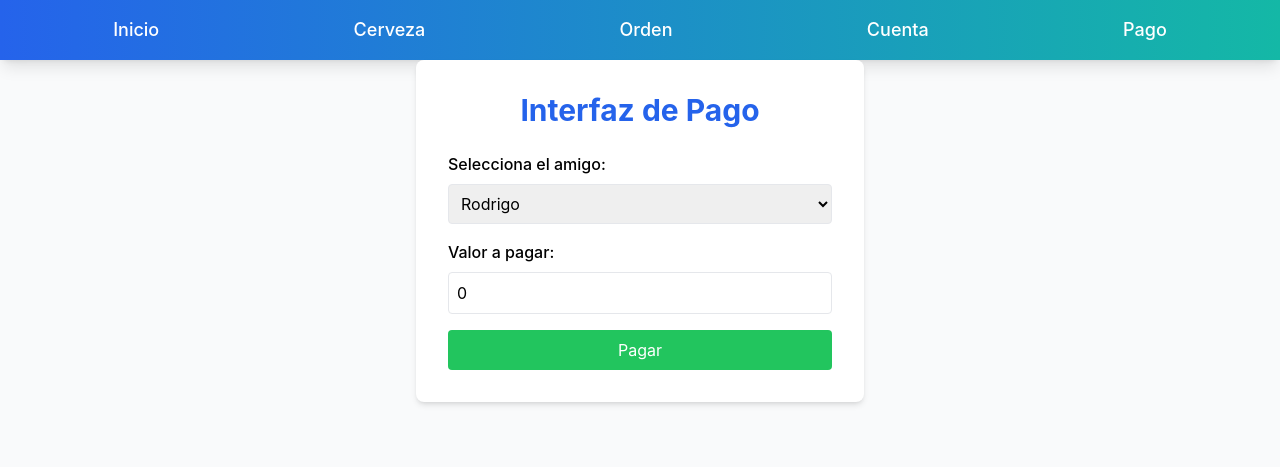
Test: Payment Page › renders payment form and submits payment successfully
Expected: the heading "Interfaz de Pago" is shown, [520, 92, 760, 128]
Select "Ailen" in the dropdown labelled "Selecciona el amigo:" at (640, 204), box [448, 184, 832, 224]
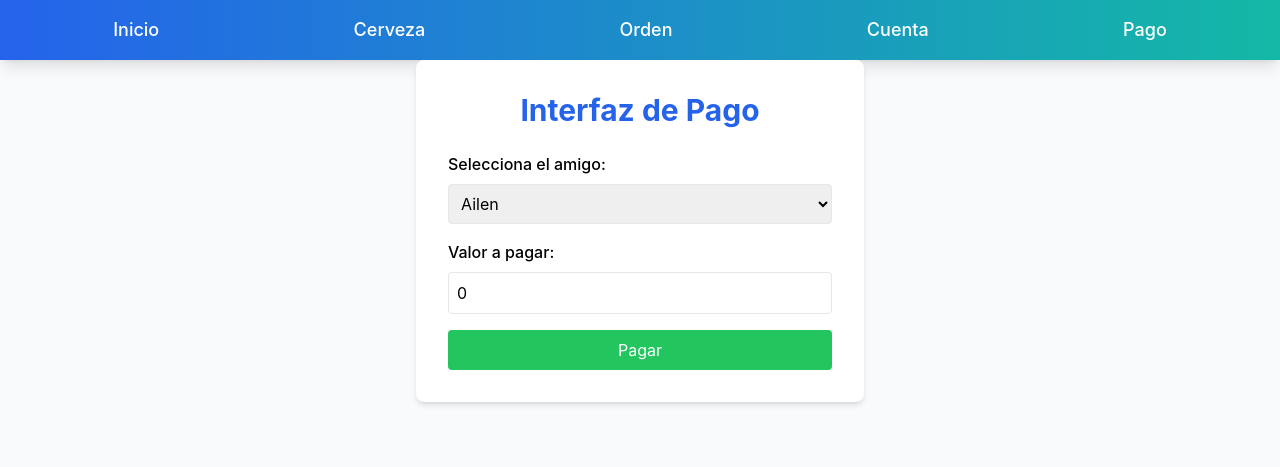
Replace the text in the number field labelled "Valor a pagar:" with "115" at (640, 293), box [448, 272, 832, 314]
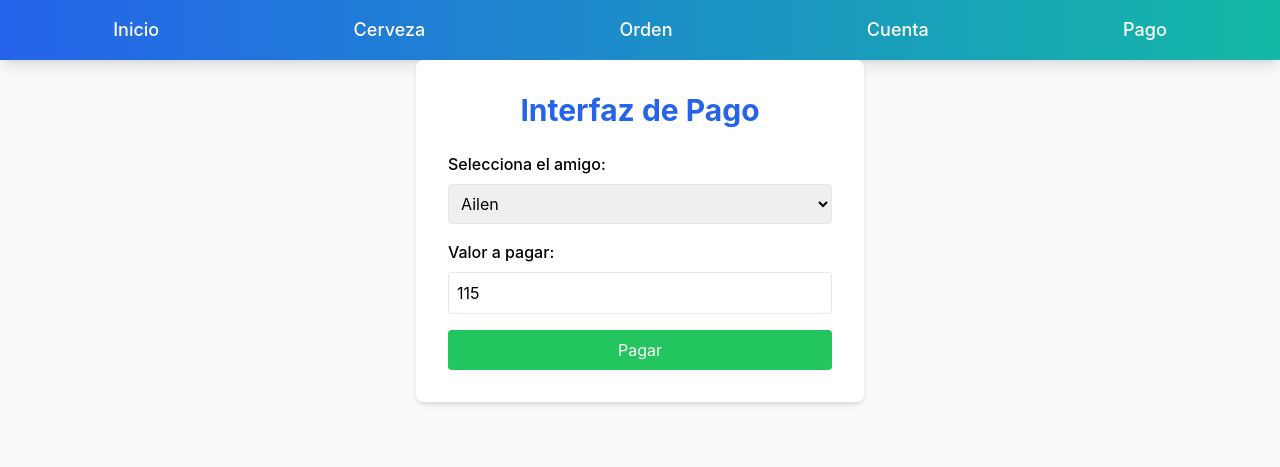
Click the button "Pagar" at (640, 350), box [448, 330, 832, 370]
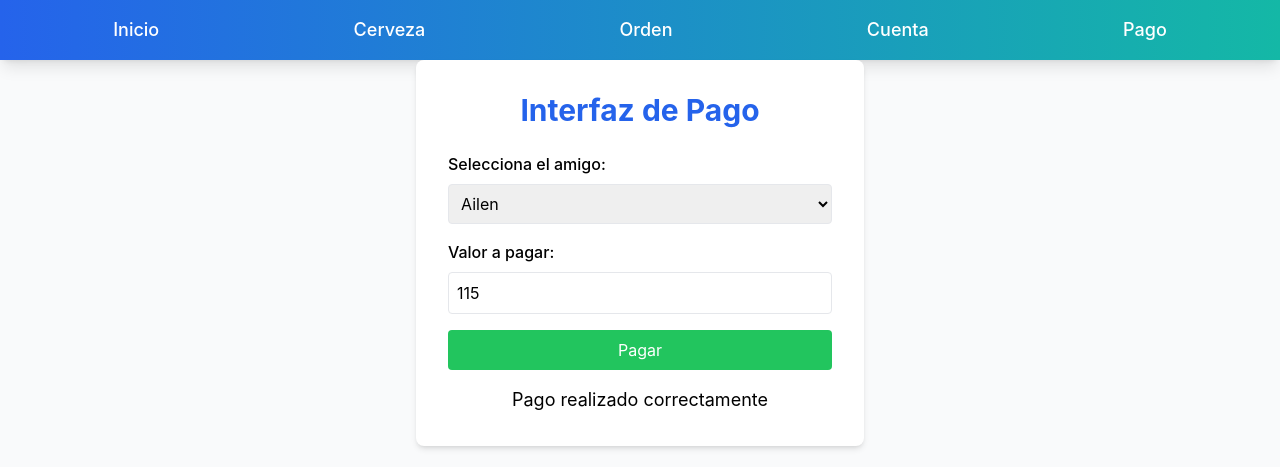
Expected: the text "Pago realizado correctamente" is shown, [512, 389, 768, 410]
